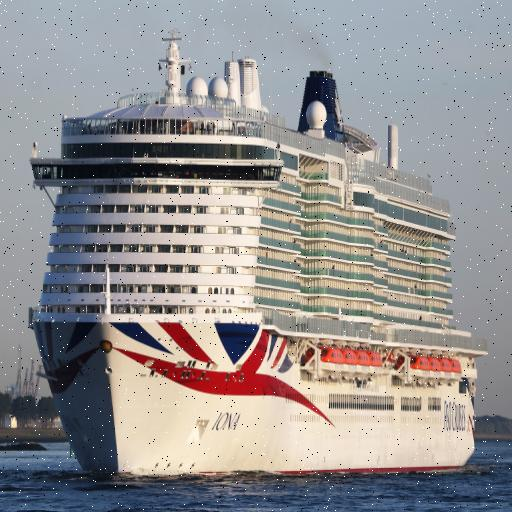cruises: (25, 26, 492, 492)
